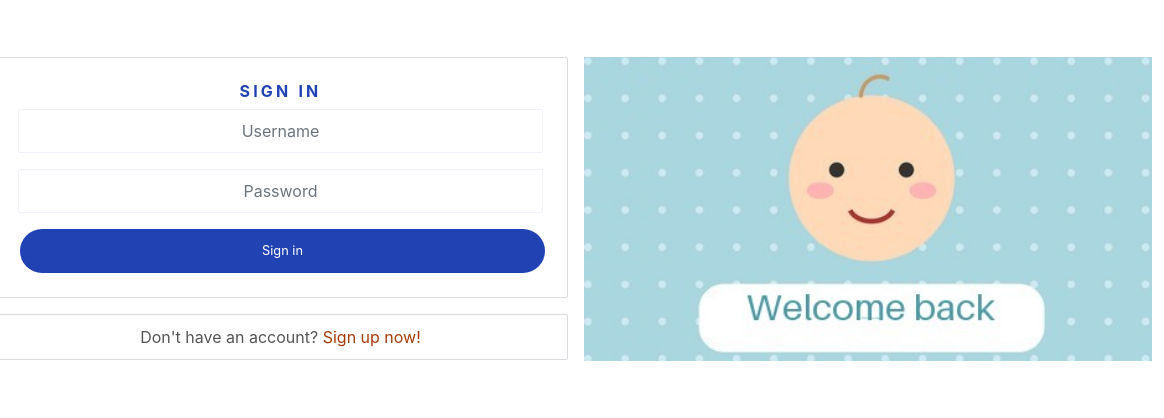
Test: fresh CSRF bootstrap precedes login and 403 detail is visible
The width and height of the screenshot is (1164, 418).
Click the button "Sign in" at (282, 251), box x1=20 y1=229 x2=545 y2=273
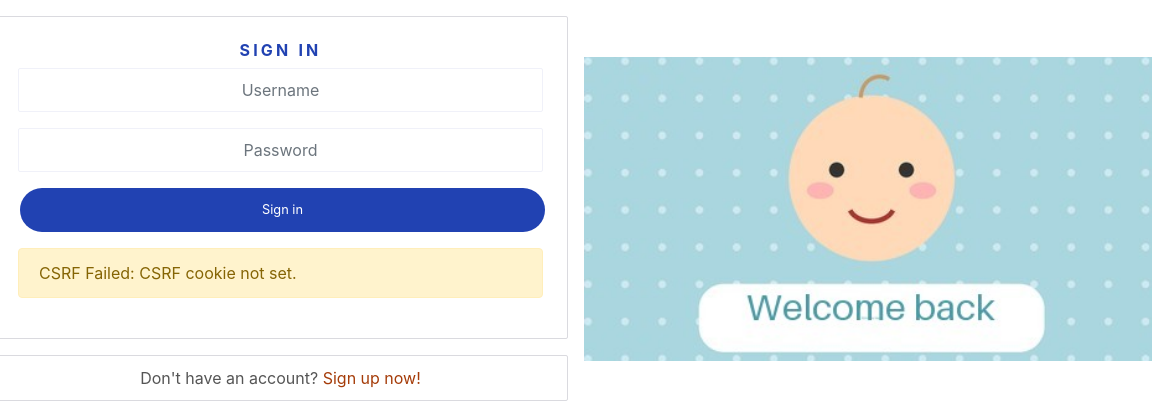
expect the message shows "CSRF Failed": met, box x1=39 y1=263 x2=297 y2=283
